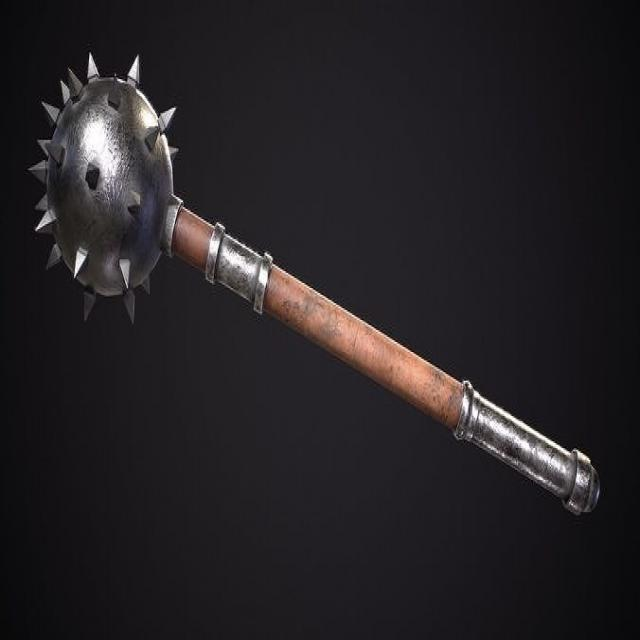mace: (30, 54, 601, 517)
